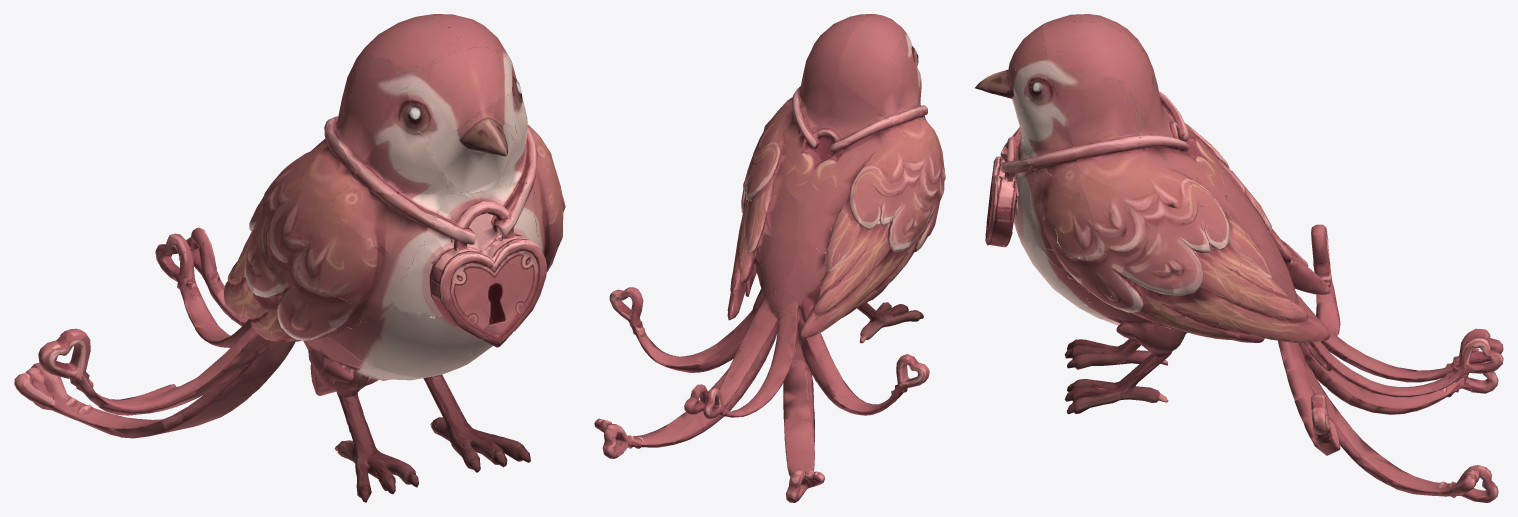
3 renders of one model, left to right at view 1: azimuth 30°, elevation 25°; view 2: azimuth 150°, elevation 25°; view 3: azimuth 270°, elevation 25°, orthographic. The views are drawn at different scales.
Visible parts, largest first — view 1: Mesh_0; view 2: Mesh_0; view 3: Mesh_0.
Boxes of the visible parts, <box> form: Mesh_0: <box>14,14,565,502</box>; Mesh_0: <box>594,14,945,502</box>; Mesh_0: <box>975,14,1503,502</box>.
Bounding box in the file's own units: 1.65 × 1.69 × 1.9.
Materials: 1 (1 with a texture image).
